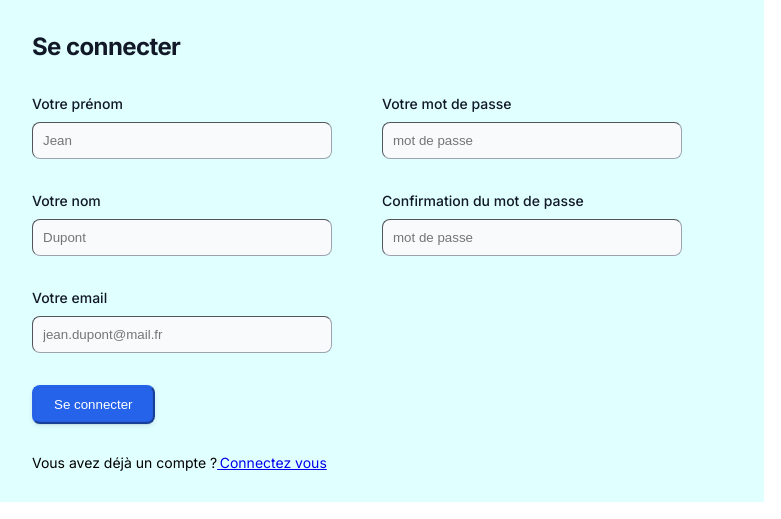
when user try to register › and when he try to fill password fields › should display error when matching passwords is invalid
The image size is (781, 519).
Type "John" into the field labelled "Votre prénom" at (182, 140), box [32, 122, 332, 159]
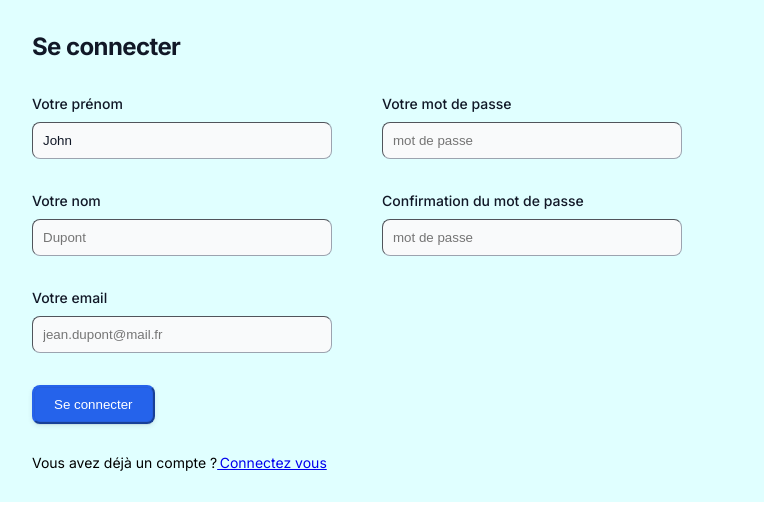
Type "Doe" into the field labelled "Votre nom" at (182, 238), box [32, 219, 332, 256]
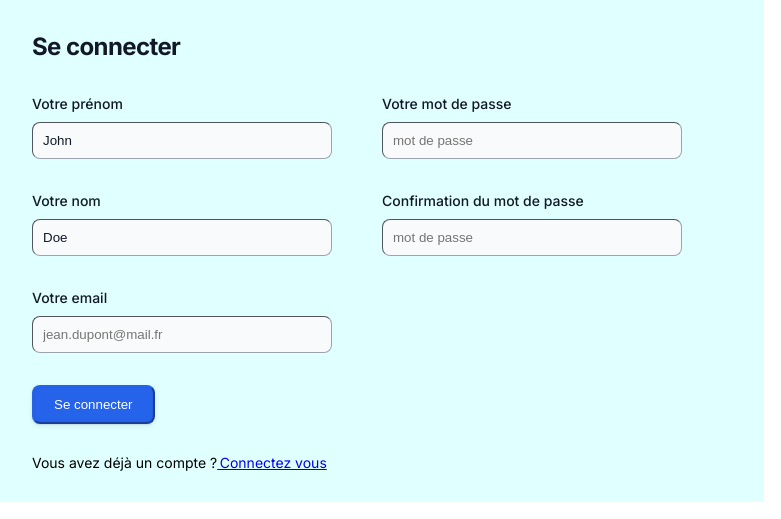
Type "test@mail.fr" into the field labelled "Votre email" at (182, 334), box [32, 316, 332, 353]
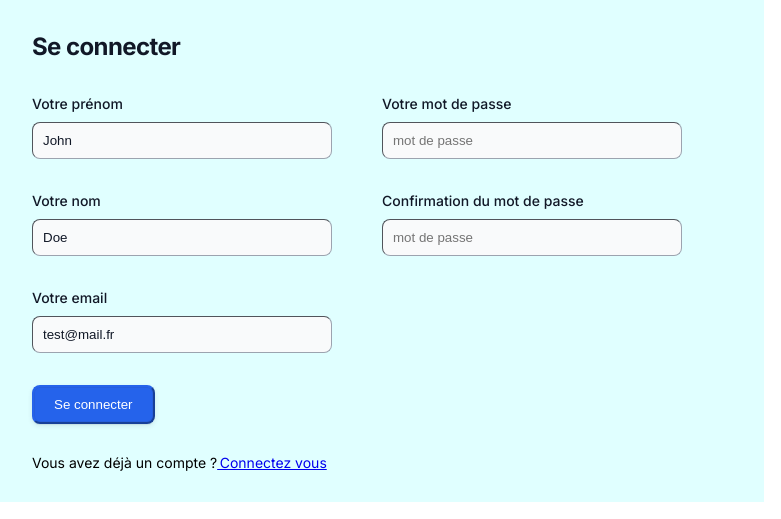
Type "Secret123@!" into the password field labelled "Votre mot de passe" at (532, 140), box [382, 122, 682, 159]
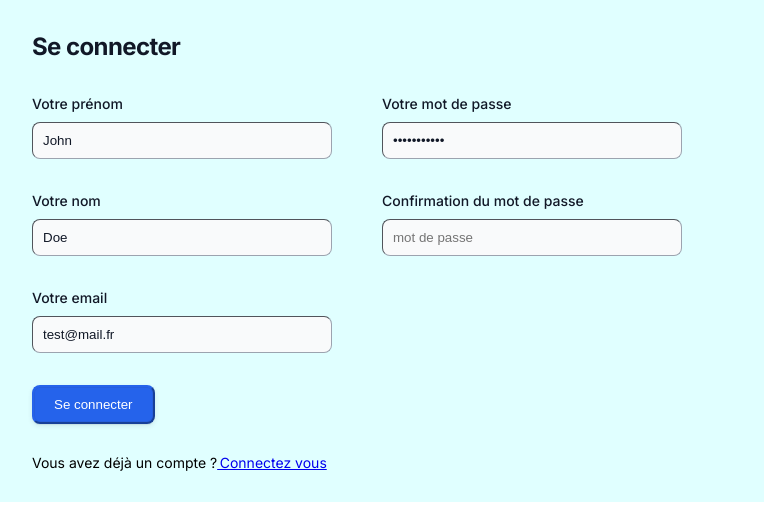
Type "sec" into the password field labelled "Confirmation du mot de passe" at (532, 238), box [382, 219, 682, 256]
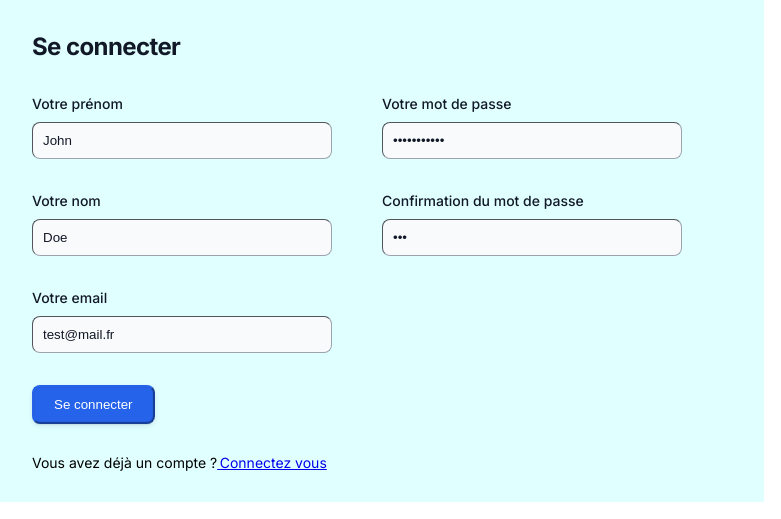
Submit the form from the button, box [32, 385, 154, 424]
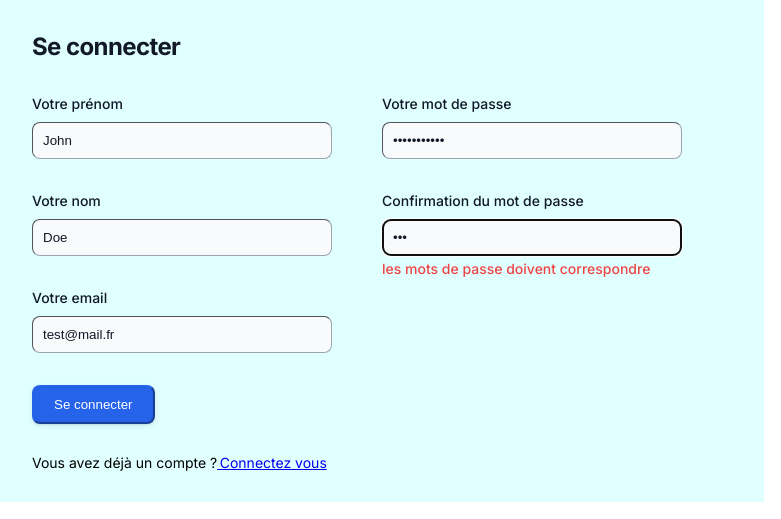
expect the number of messages is 1: met, box [382, 259, 650, 279]
